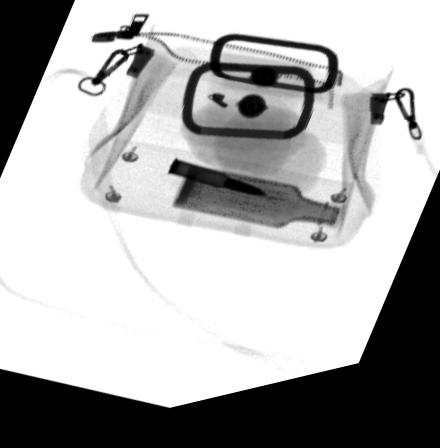Bullet: (165, 163, 270, 209)
